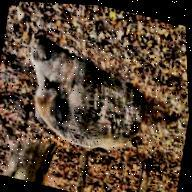boar: (10, 38, 173, 174)
